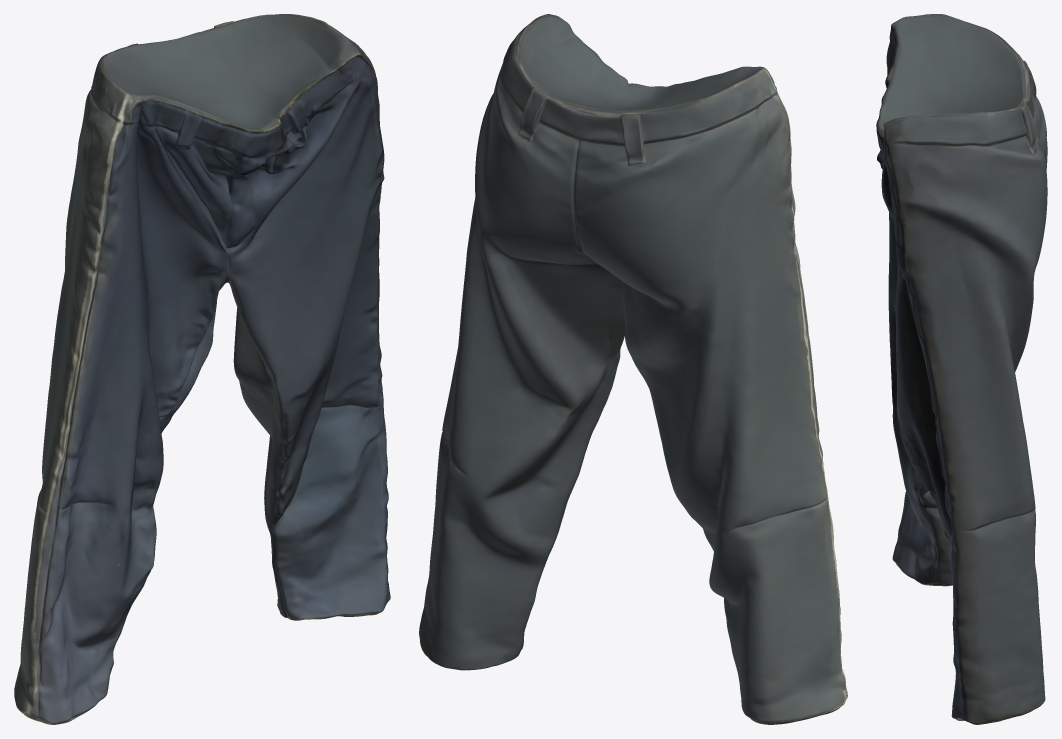
Rendered from summer_boy_bottom_01.glb.
The picture shows the model from 3 angles, left to right: view 1: azimuth 30°, elevation 25°; view 2: azimuth 150°, elevation 25°; view 3: azimuth 270°, elevation 25°; orthographic projection. The views are drawn at different scales.
Parts seen in each view (by area): view 1: tripo_node_6e9ac371-4270-4d25-a856-af087492949f; view 2: tripo_node_6e9ac371-4270-4d25-a856-af087492949f; view 3: tripo_node_6e9ac371-4270-4d25-a856-af087492949f.
Part boxes in pixels (x1=…): tripo_node_6e9ac371-4270-4d25-a856-af087492949f: x1=14, y1=14, x2=390, y2=724; tripo_node_6e9ac371-4270-4d25-a856-af087492949f: x1=419, y1=14, x2=847, y2=724; tripo_node_6e9ac371-4270-4d25-a856-af087492949f: x1=876, y1=14, x2=1047, y2=724.
Bounding box in the file's own units: 0.6641 × 1 × 0.2673.
Materials: 1 (1 with a texture image).
